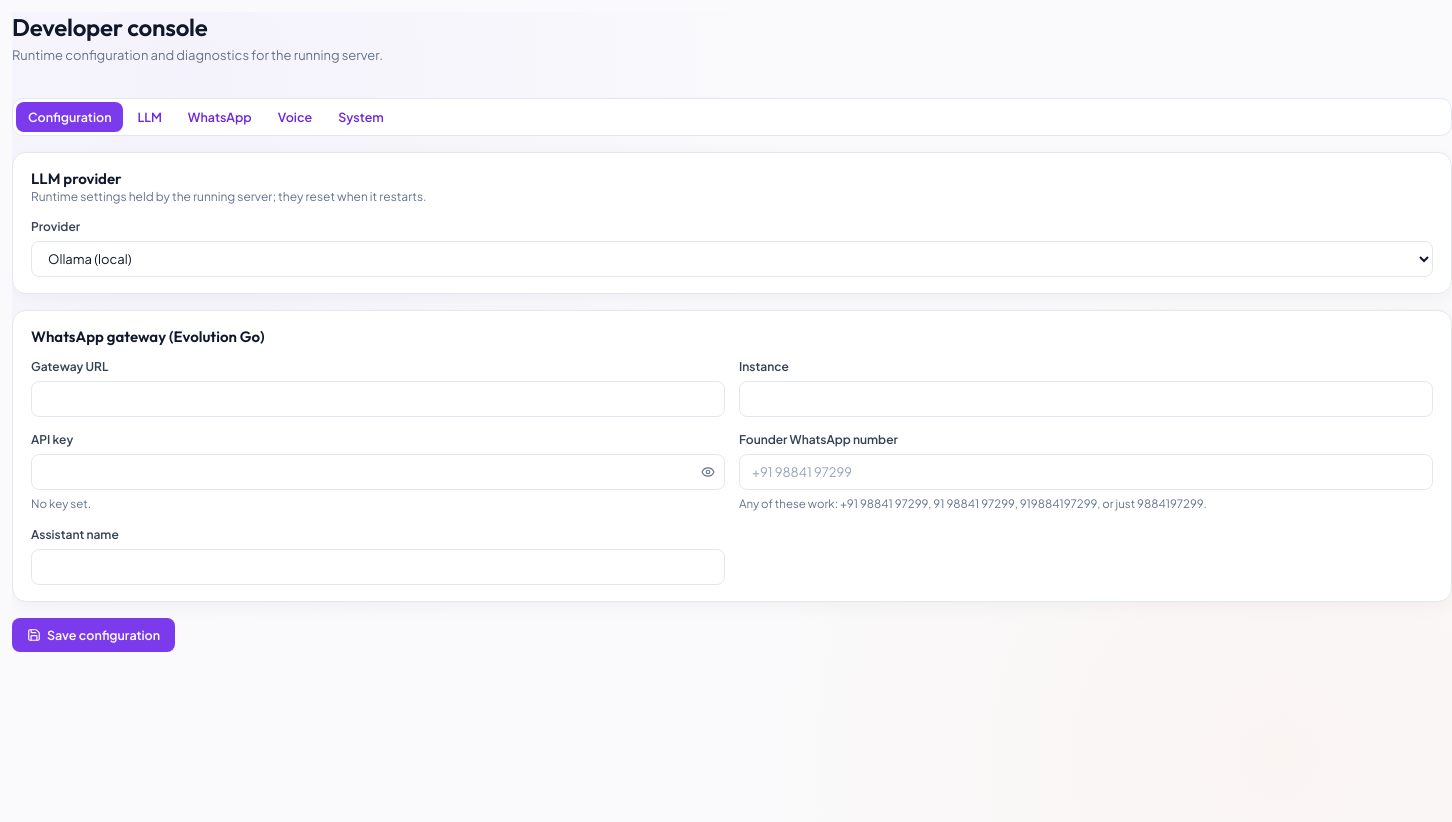
Test: Voice tab › shows request errors with retry
The image size is (1452, 822).
Click the tab "Voice": (295, 116) [266,102,324,132]
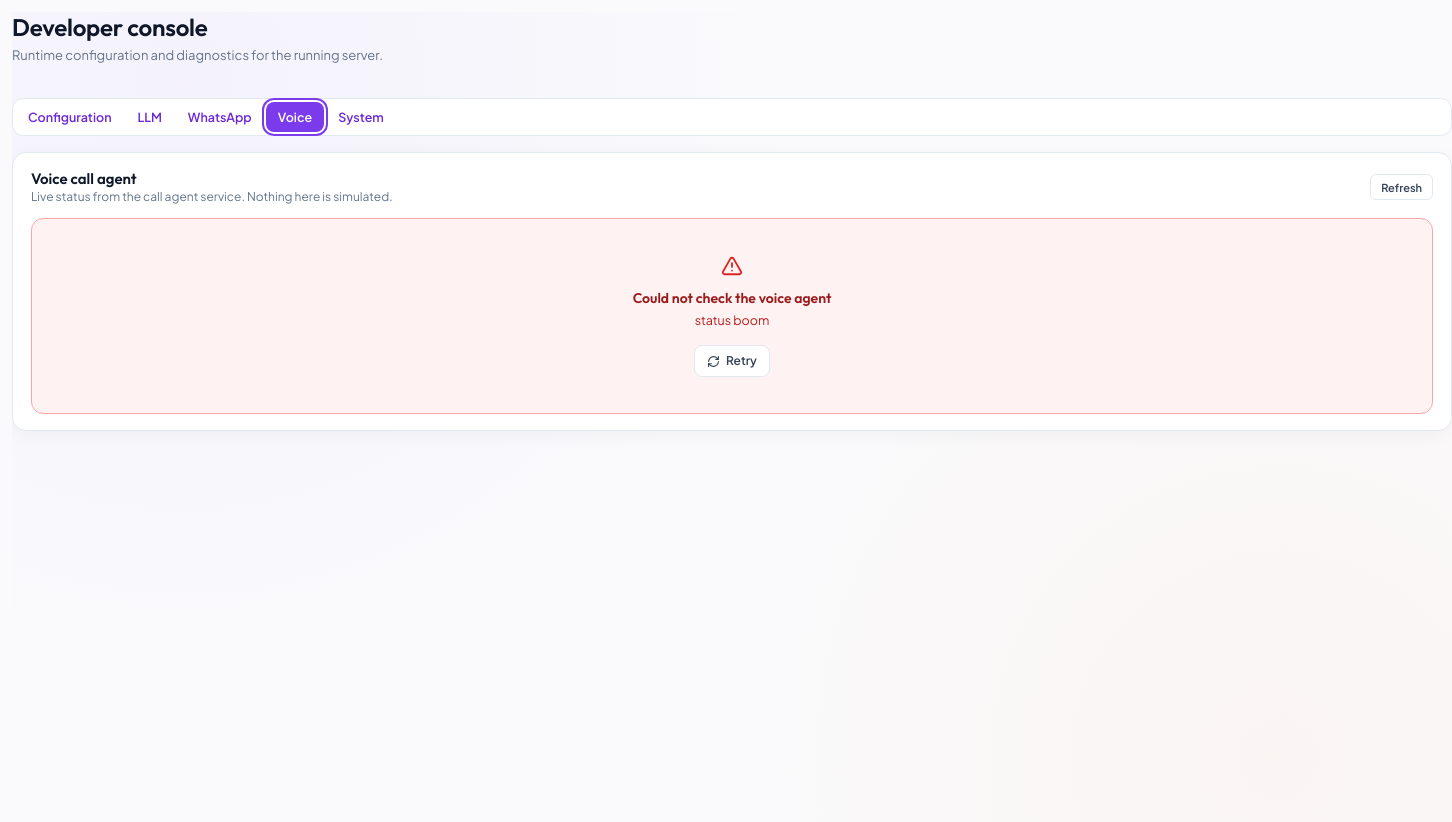
expect the text "status boom" is shown: met, box [695,310,769,329]
Click the button "Retry": (732, 361) [694,345,770,377]
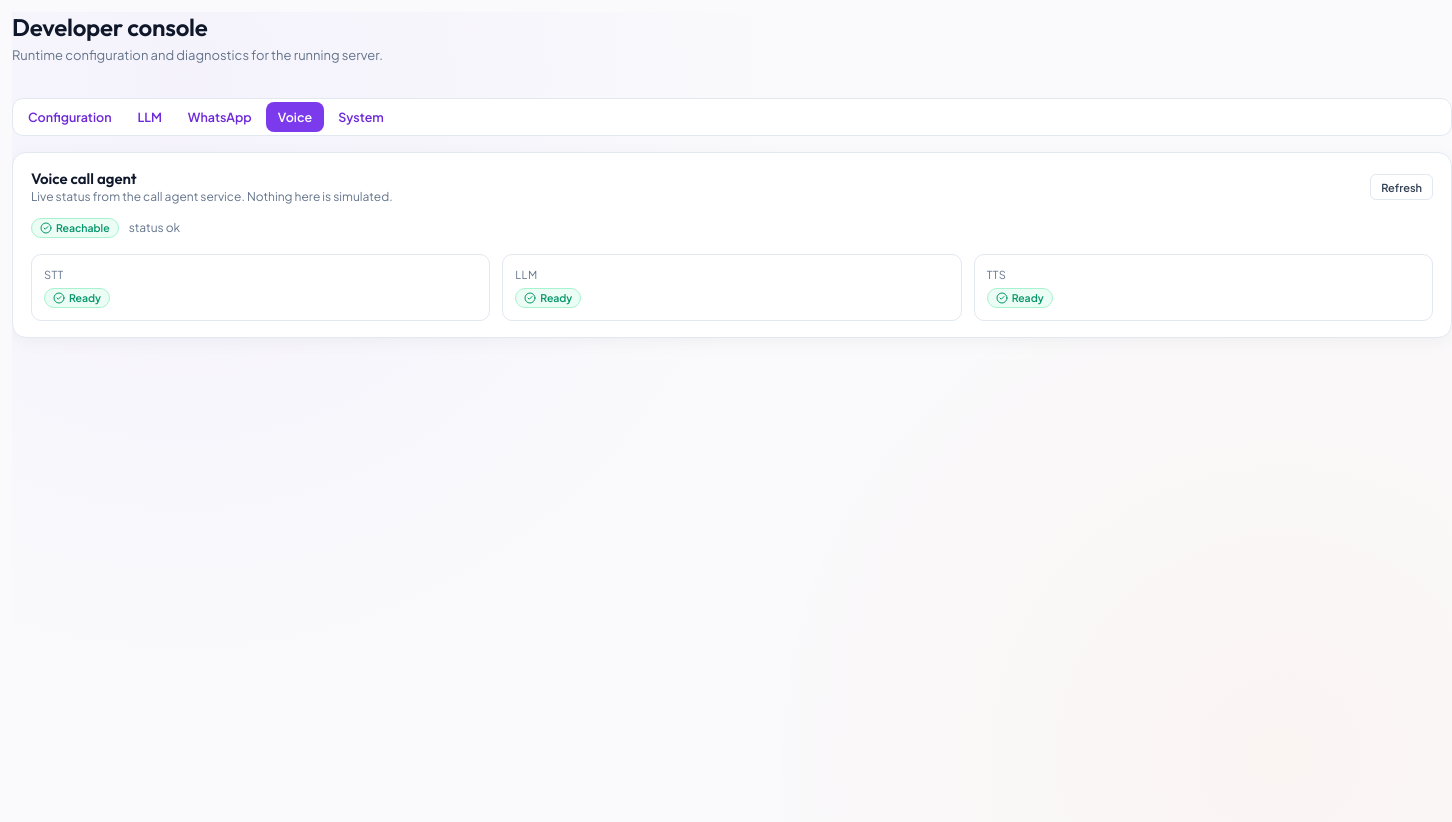
expect the text "Reachable" is shown: met, box [31,218,119,238]
expect the text "Ready" is shown 3 times: met, box [44,288,110,308]; [515,288,581,308]; [987,288,1053,308]
